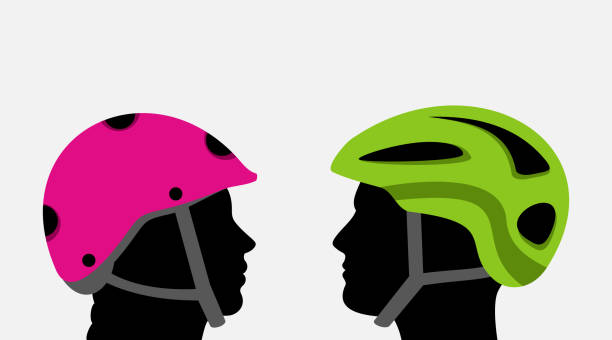helmet: (330, 106, 571, 340), (43, 114, 257, 340)
